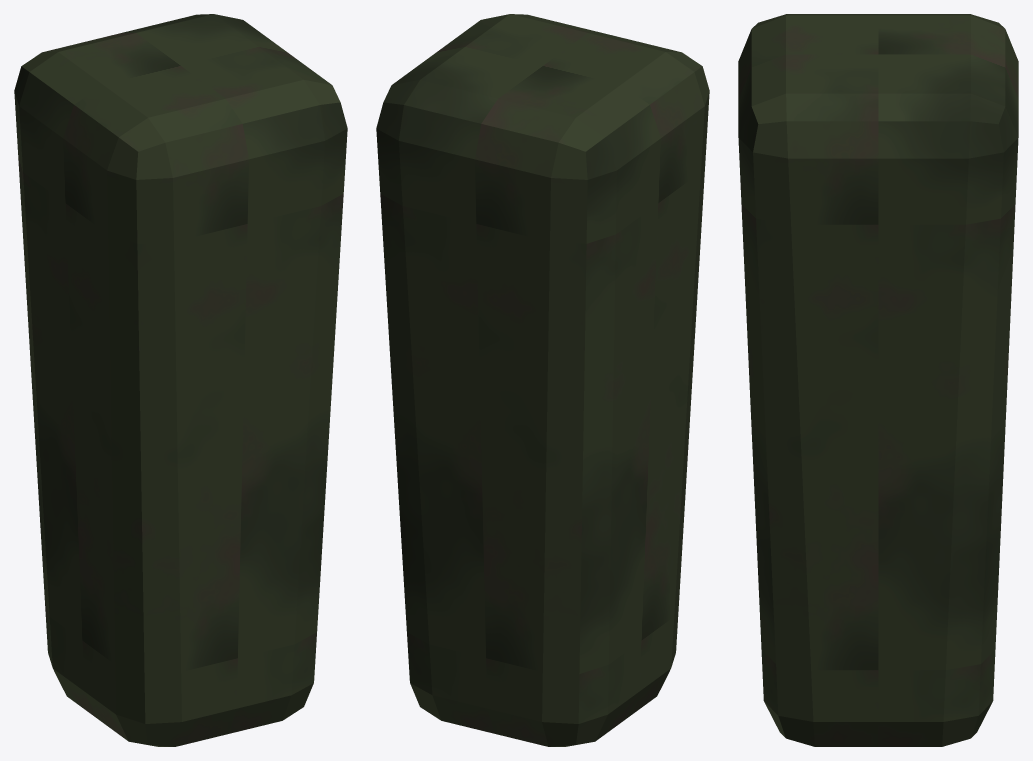
The model's file is Zombie_ArmLowerL.obj.
3 renders of one model, left to right at view 1: azimuth 30°, elevation 25°; view 2: azimuth 150°, elevation 25°; view 3: azimuth 270°, elevation 25°, orthographic. The views are drawn at different scales.
Size of the model in its own units: 0.1242 by 0.325 by 0.1242.
Materials: 1 (1 with a texture image).
